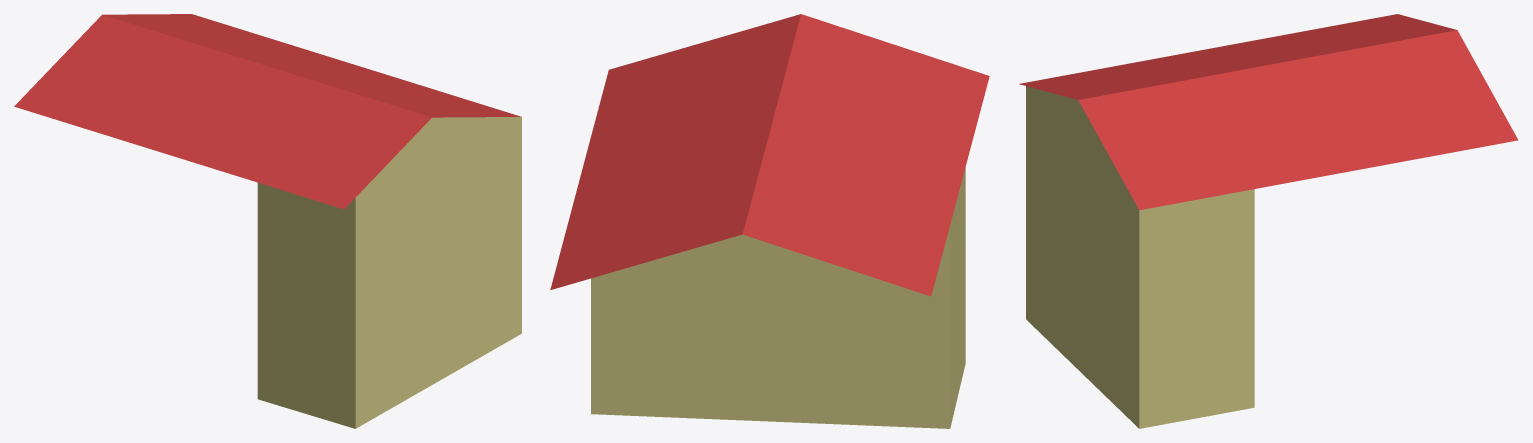
3 renders of one model, left to right at view 1: azimuth 30°, elevation 25°; view 2: azimuth 150°, elevation 25°; view 3: azimuth 270°, elevation 25°, orthographic. The views are drawn at different scales.
Size of the model in its own units: 9.08 by 10.26 by 6.11.
